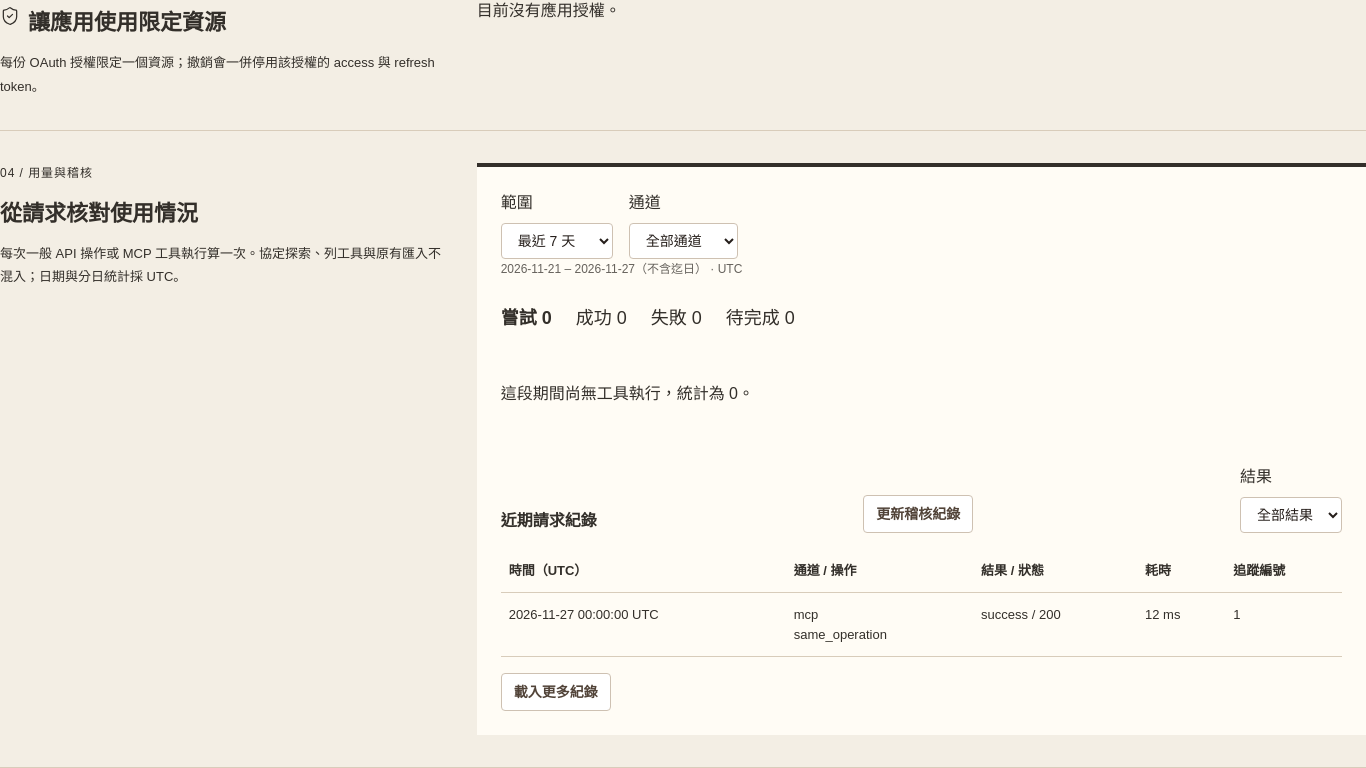
Test: overlapping pages do not duplicate a recorded request
(page scrolled)
Click the button "載入更多紀錄".
click(556, 692)  # box left=501, top=673, right=611, bottom=711
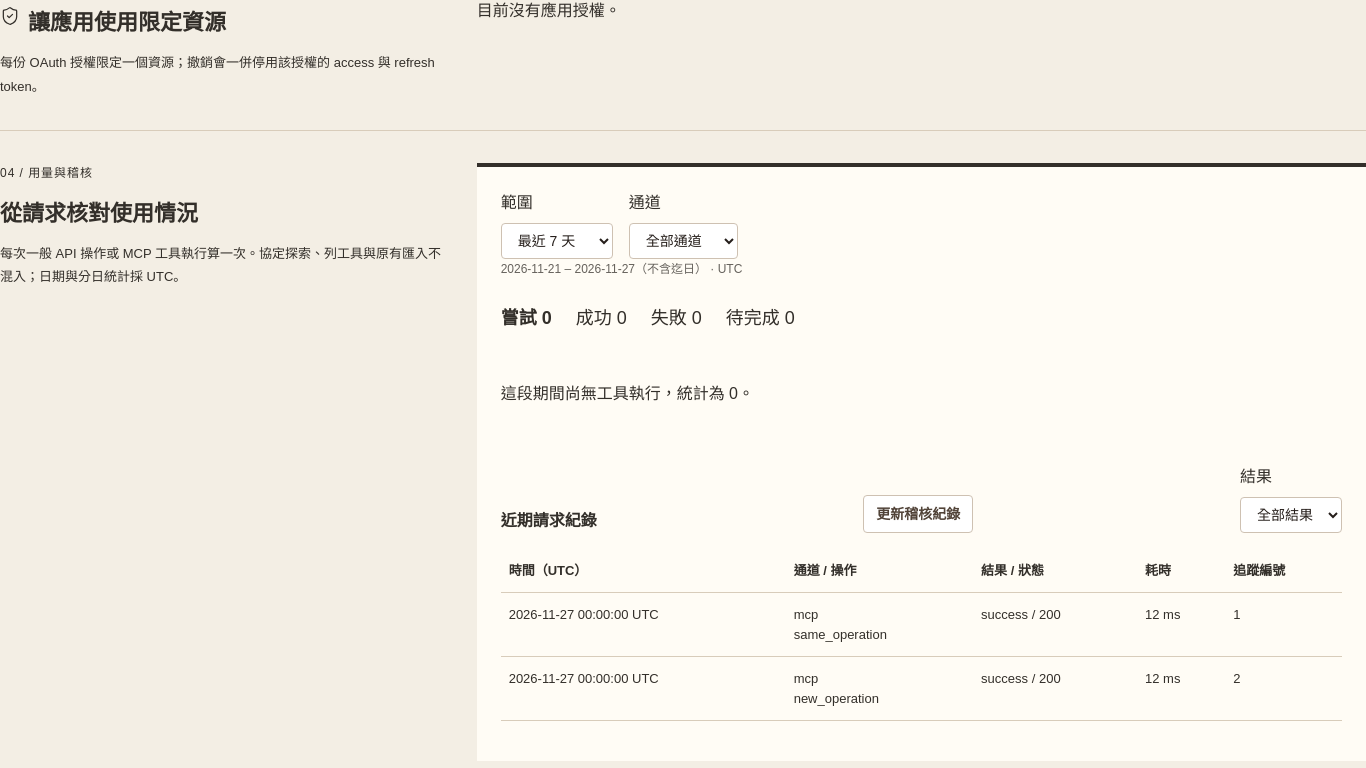
Now the text "new_operation" is shown, box left=794, top=690, right=879, bottom=706
Now the text "same_operation" is shown once, box left=786, top=592, right=973, bottom=656
